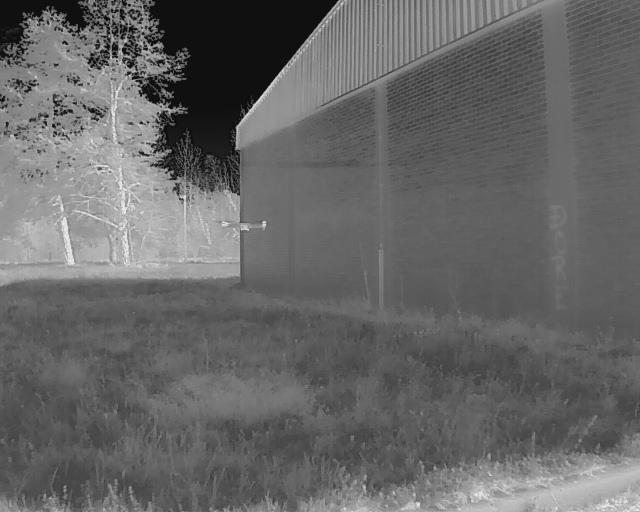drone: (208, 203, 281, 252)
